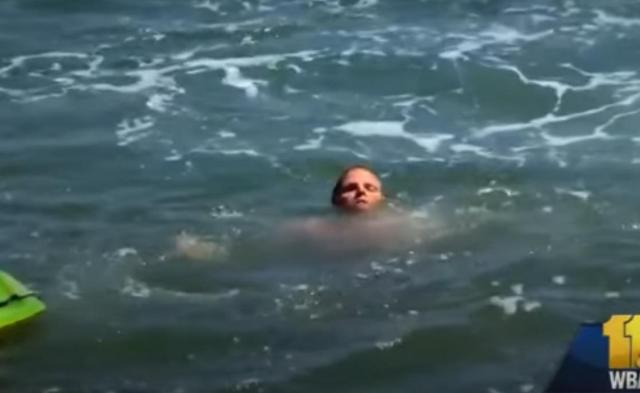drowning: (305, 152, 401, 240)
